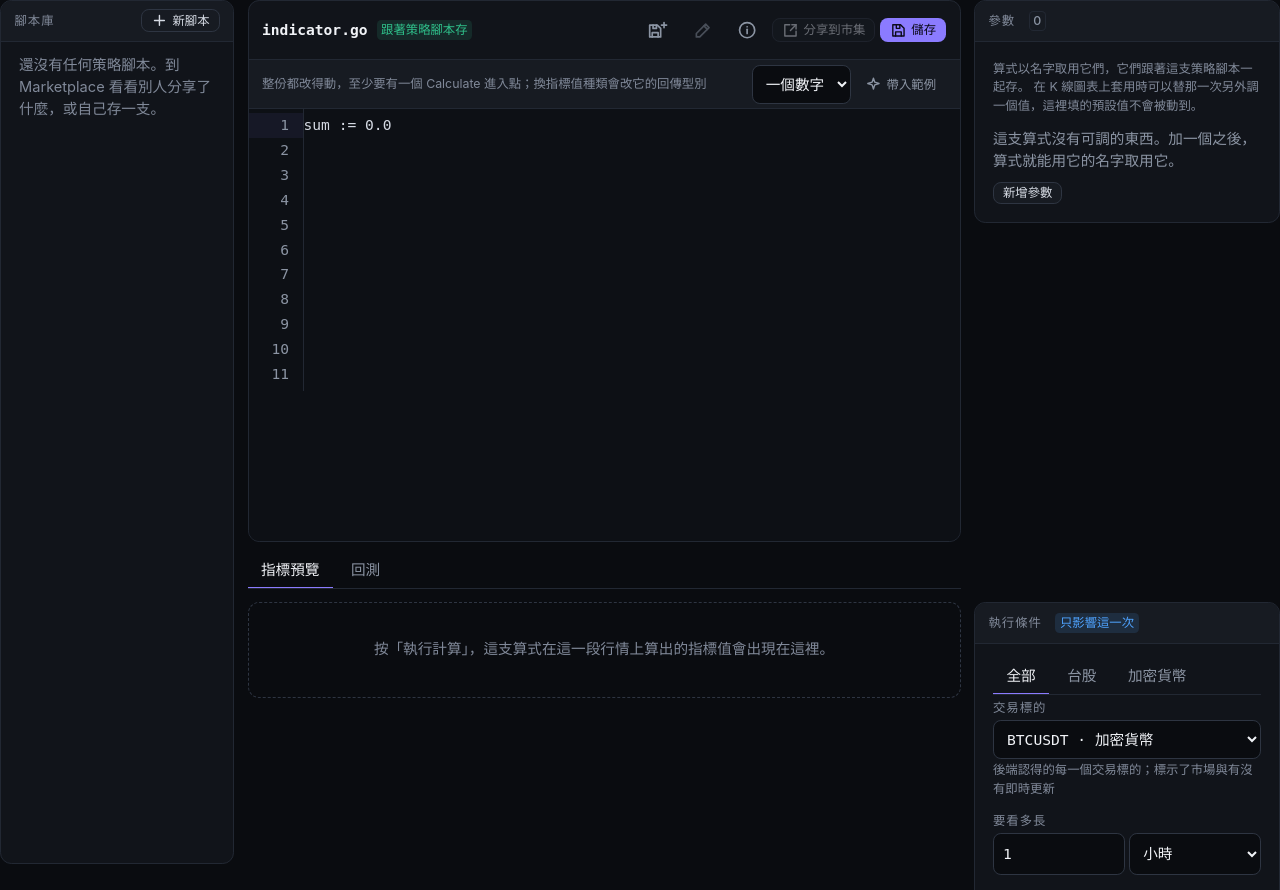
Scenario: 策略腳本畫面上的策略腳本：存回去 › 沒有使用中的那一支時，儲存先問名字
Clear the field with class "cm-content" at (348, 125), box [304,116,392,133]
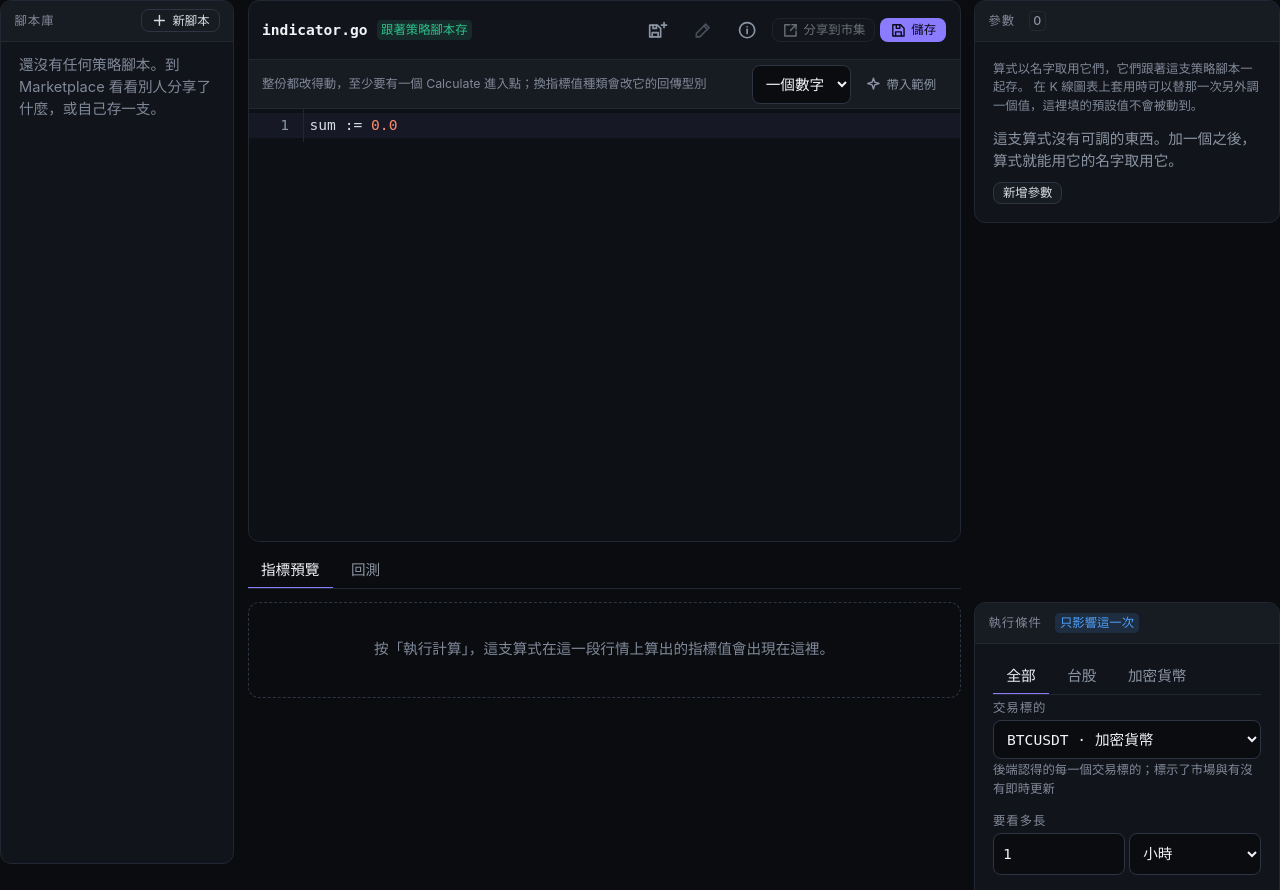
Click the button with test id "save-strategy-script-button" at (913, 30), box [880,18,946,42]
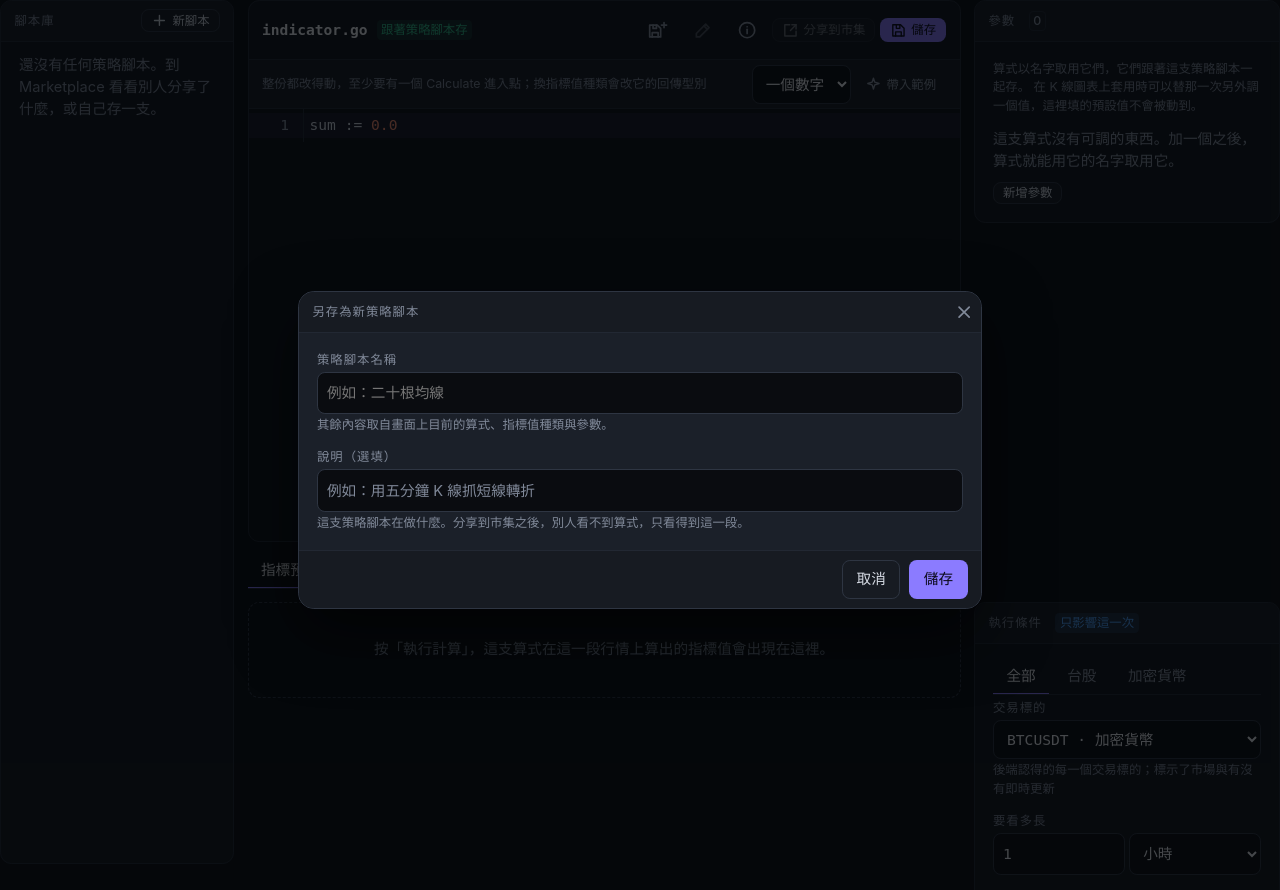
Check: the field with test id "strategy-script-name-input" is shown, box [317,372,963,414]
